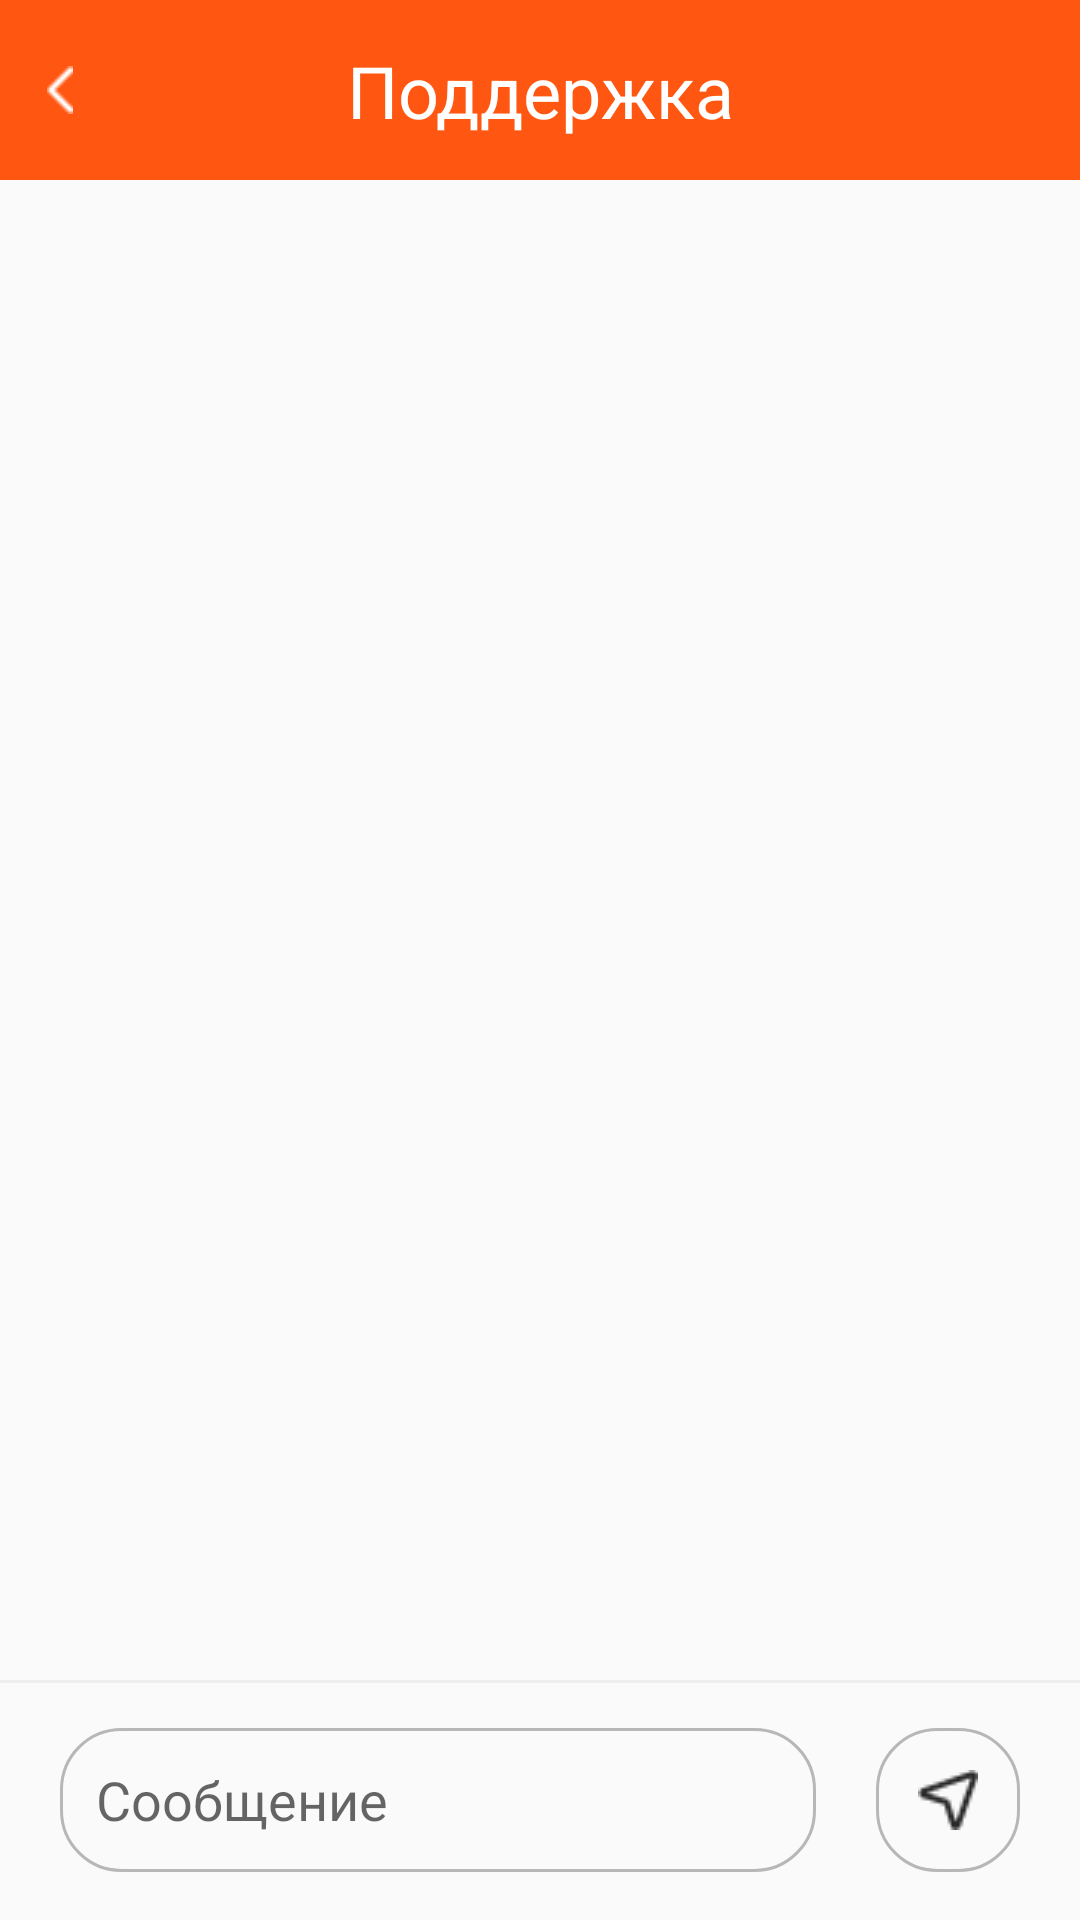

Icons on this 1080x1920 Android screen, each with its box as {"left": x1, "top": y1, "right": x2, "bottom": y2}:
arrow: {"left": 47, "top": 66, "right": 73, "bottom": 114}
send: {"left": 876, "top": 1728, "right": 1020, "bottom": 1872}
